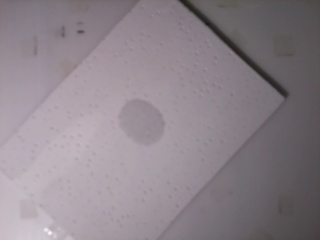Water_detected: (126, 101, 166, 141)
